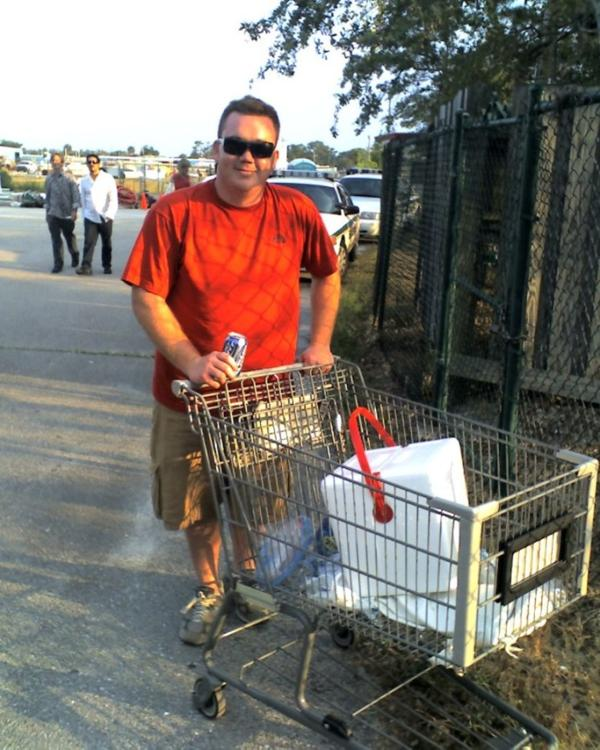person: (121, 96, 341, 643)
